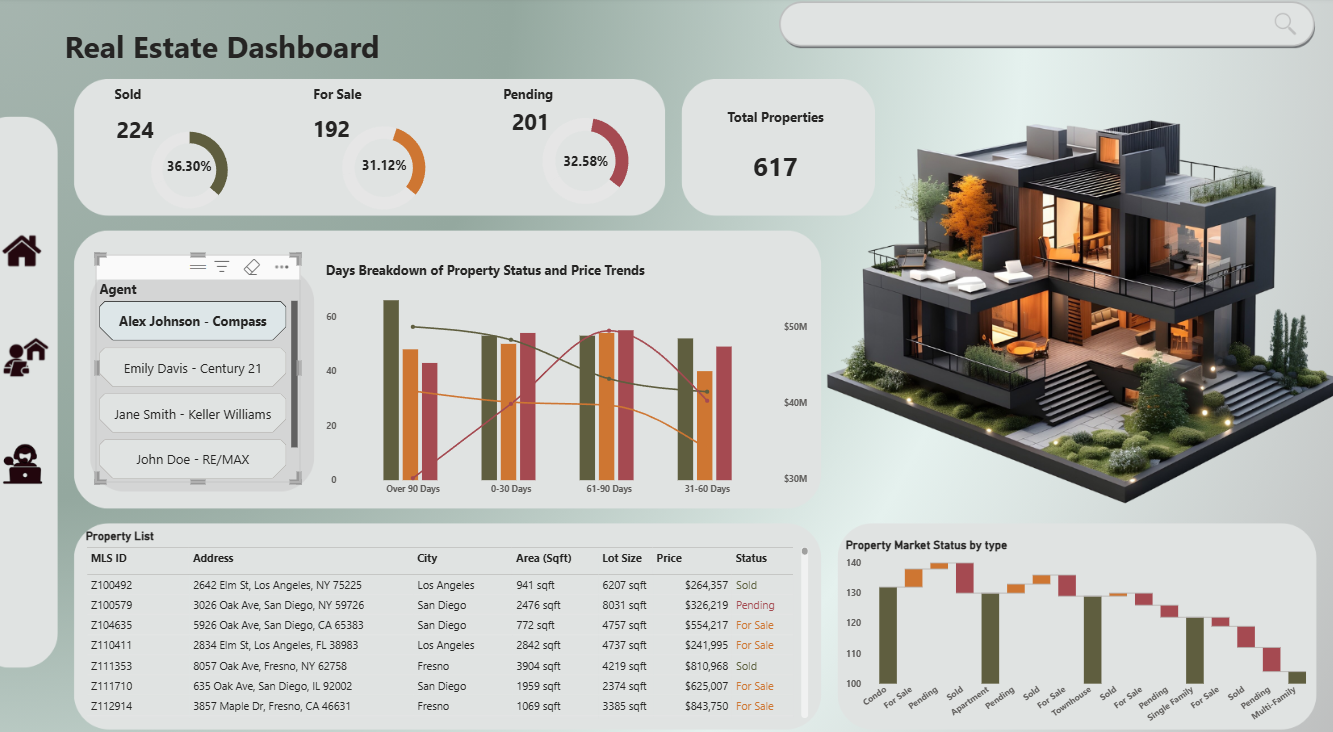

The dashboard page shown, as its layout file describes it:
{"tool":"powerbi","page":{"name":"Page 1","canvas":[1665,890],"ordinal":0},"visuals":[{"type":"cardVisual","title":"Total Properties","fields":{"Data":["RealEstate_Dataset.Total Properties"]},"box":[846.1,107.1,235.6,119.6],"z":0},{"type":"cardVisual","fields":{"Data":["RealEstate_Dataset.Sold Properties"]},"box":[78,94.2,185.6,75.6],"z":1000},{"type":"cardVisual","fields":{"Data":["RealEstate_Dataset.For Sale Properties"]},"box":[314.3,82.2,197.8,97.8],"z":2000},{"type":"cardVisual","fields":{"Data":["RealEstate_Dataset.Pending Properties"]},"box":[546.7,72.1,226.7,98.9],"z":3000},{"type":"cardVisual","fields":{"Data":["RealEstate_Dataset.Sold %"]},"box":[172.4,145.3,130,62.2],"z":4000},{"type":"cardVisual","fields":{"Data":["RealEstate_Dataset.For Sale %"]},"box":[414.3,147.8,127.8,56.7],"z":5000},{"type":"cardVisual","fields":{"Data":["RealEstate_Dataset.Pending %"]},"box":[660,138.8,137.8,62.2],"z":6000},{"type":"donutChart","fields":{"Category":["RealEstate_Dataset.Status"],"Y":["RealEstate_Dataset.Status"]},"box":[130.2,118.7,214.4,128.9],"z":7000},{"type":"donutChart","fields":{"Category":["RealEstate_Dataset.Status"],"Y":["RealEstate_Dataset.Status"]},"box":[375.4,111.1,206.7,138.9],"z":8000},{"type":"donutChart","fields":{"Category":["RealEstate_Dataset.Status"],"Y":["RealEstate_Dataset.Status"]},"box":[624.4,101.1,207.8,143.3],"z":9000},{"type":"textbox","box":[78,0,484,72],"z":10000},{"type":"lineClusteredColumnComboChart","title":"Days Breakdown of Property Status and Price Trends","fields":{"Category":["RealEstate_Dataset.Days_on_market_Category"],"Y":["RealEstate_Dataset.Sold Properties","RealEstate_Dataset.For Sale Properties","RealEstate_Dataset.Pending Properties"],"Y2":["RealEstate_Dataset.Total_Sold_Price","RealEstate_Dataset.Total_Sale_Price","RealEstate_Dataset.Total_Pending_Price"]},"box":[401.7,295,606.7,300],"z":11000},{"type":"tableEx","title":"Property List","fields":{"Values":["RealEstate_Dataset.MLS ID","RealEstate_Dataset.Address","RealEstate_Dataset.City","RealEstate_Dataset.Area (Sqft)","RealEstate_Dataset.Lot Size","RealEstate_Dataset.Price","RealEstate_Dataset.Status"]},"box":[103.3,628.3,905,238.3],"z":12000},{"type":"advancedSlicerVisual","title":"Agent","fields":{"Values":["RealEstate_Dataset.Listing Agent"]},"box":[120,318.3,255,253.3],"z":13000},{"type":"textbox","box":[621.4,72.9,85.7,45.7],"z":14000},{"type":"textbox","box":[385.7,72.9,85.7,45.7],"z":15000},{"type":"textbox","box":[140,72.9,85.7,45.7],"z":16000},{"type":"waterfallChart","title":"Property Market Status by type","fields":{"Breakdown":["RealEstate_Dataset.Status"],"Category":["RealEstate_Dataset.Property Type"],"Y":["RealEstate_Dataset.Status"]},"box":[1045,640,593.3,238.3],"z":17000}]}

Visuals, with their boxes in screenshot pixels (x1, y1, x2, y2), scaled from the page's 1665x890 canvas onto the 1333x732 screenshot:
"Total Properties" cardVisual: 677, 88, 866, 186
cardVisual - RealEstate_Dataset.Sold Properties: 62, 77, 211, 140
cardVisual - RealEstate_Dataset.For Sale Properties: 252, 68, 410, 148
cardVisual - RealEstate_Dataset.Pending Properties: 438, 59, 619, 141
cardVisual - RealEstate_Dataset.Sold %: 138, 120, 242, 171
cardVisual - RealEstate_Dataset.For Sale %: 332, 122, 434, 168
cardVisual - RealEstate_Dataset.Pending %: 528, 114, 639, 165
donutChart - RealEstate_Dataset.Status x RealEstate_Dataset.Status: 104, 98, 276, 204
donutChart - RealEstate_Dataset.Status x RealEstate_Dataset.Status: 301, 91, 466, 206
donutChart - RealEstate_Dataset.Status x RealEstate_Dataset.Status: 500, 83, 666, 201
textbox: 62, 0, 450, 59
"Days Breakdown of Property Status and Price Trends" lineClusteredColumnComboChart: 322, 243, 807, 489
"Property List" tableEx: 83, 517, 807, 713
"Agent" advancedSlicerVisual: 96, 262, 300, 470
textbox: 497, 60, 566, 98
textbox: 309, 60, 377, 98
textbox: 112, 60, 181, 98
"Property Market Status by type" waterfallChart: 837, 526, 1312, 722
